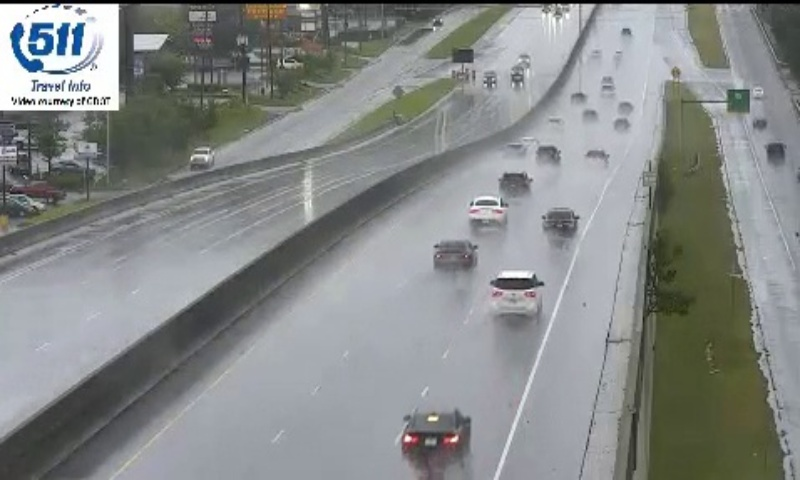car: (403, 405, 468, 460), (490, 270, 540, 314), (433, 238, 477, 270), (468, 196, 507, 228), (542, 207, 575, 238), (500, 169, 528, 196)
